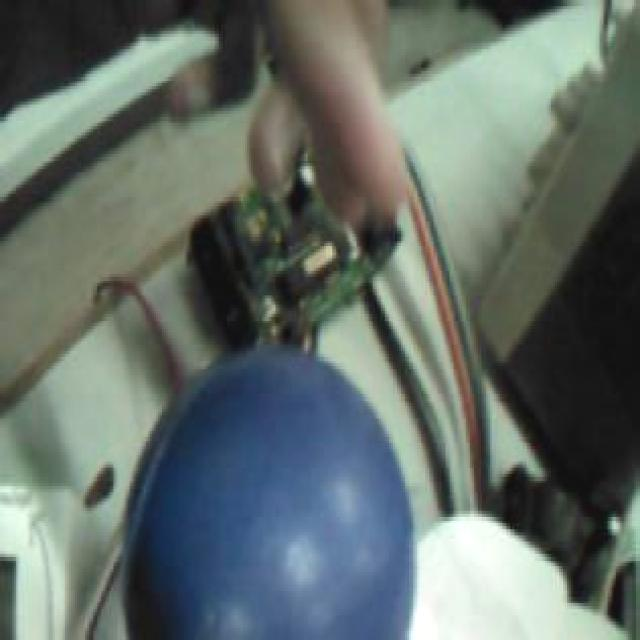BallPurple: (123, 342, 415, 640)
